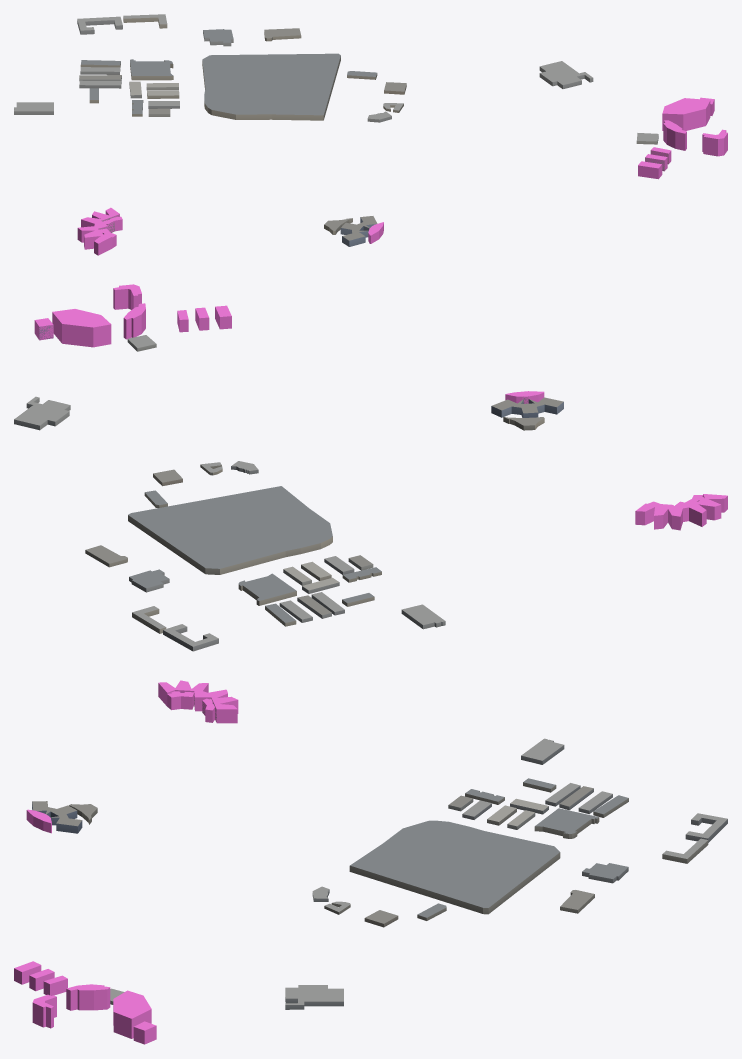
The model's file is bld_18_5.fbx.
3 renders of one model, top to bottom at view 1: azimuth 30°, elevation 25°; view 2: azimuth 150°, elevation 25°; view 3: azimuth 270°, elevation 25°, orthographic. The views are drawn at different scales.
Parts seen in each view (by area): view 1: bld_18_5_LOD0, bld_18_5_COL; view 2: bld_18_5_LOD0, bld_18_5_COL; view 3: bld_18_5_LOD0, bld_18_5_COL.
Boxes of the visible parts, bbox=[...] form: bld_18_5_LOD0: bbox=[14, 14, 668, 246]; bld_18_5_COL: bbox=[77, 97, 727, 255]; bld_18_5_LOD0: bbox=[14, 325, 563, 651]; bld_18_5_COL: bbox=[34, 284, 727, 530]; bld_18_5_LOD0: bbox=[32, 698, 727, 1009]; bld_18_5_COL: bbox=[14, 680, 238, 1044].
Size of what is drawn, in the model's own units: 2001 by 54.01 by 1724.
